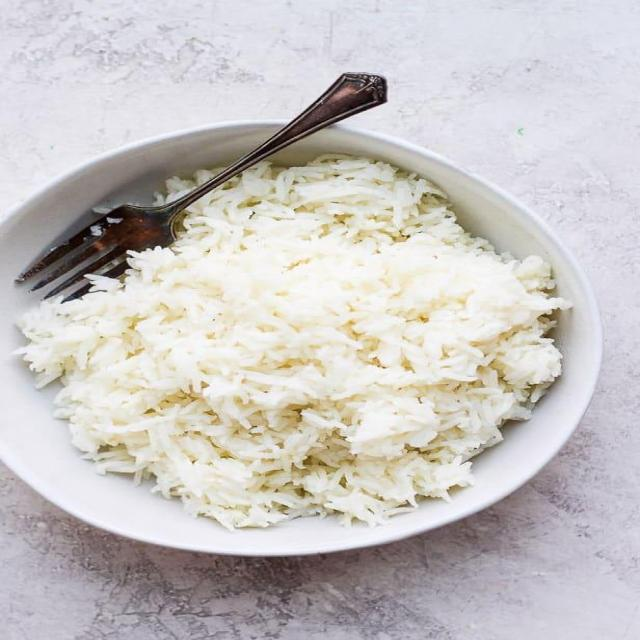rice: (21, 154, 566, 524)
